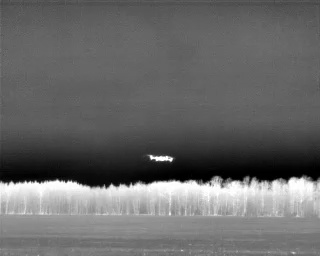DRONE: (144, 149, 179, 167)
